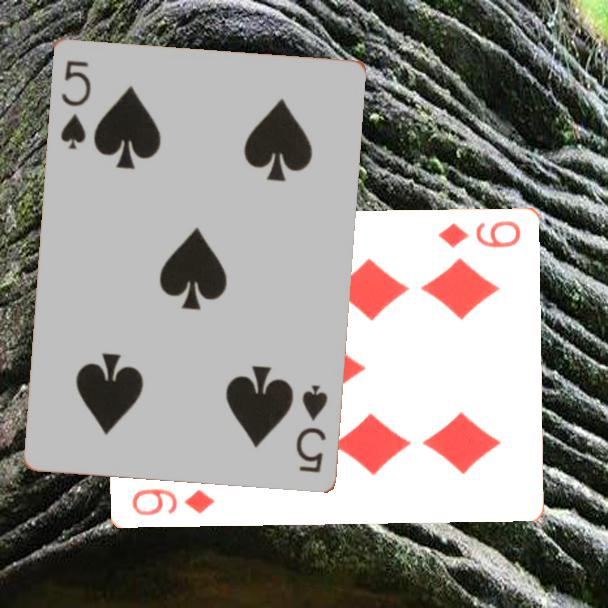d09: (129, 484, 219, 518), (435, 217, 524, 251)
s05: (292, 381, 330, 476), (57, 56, 94, 152)
